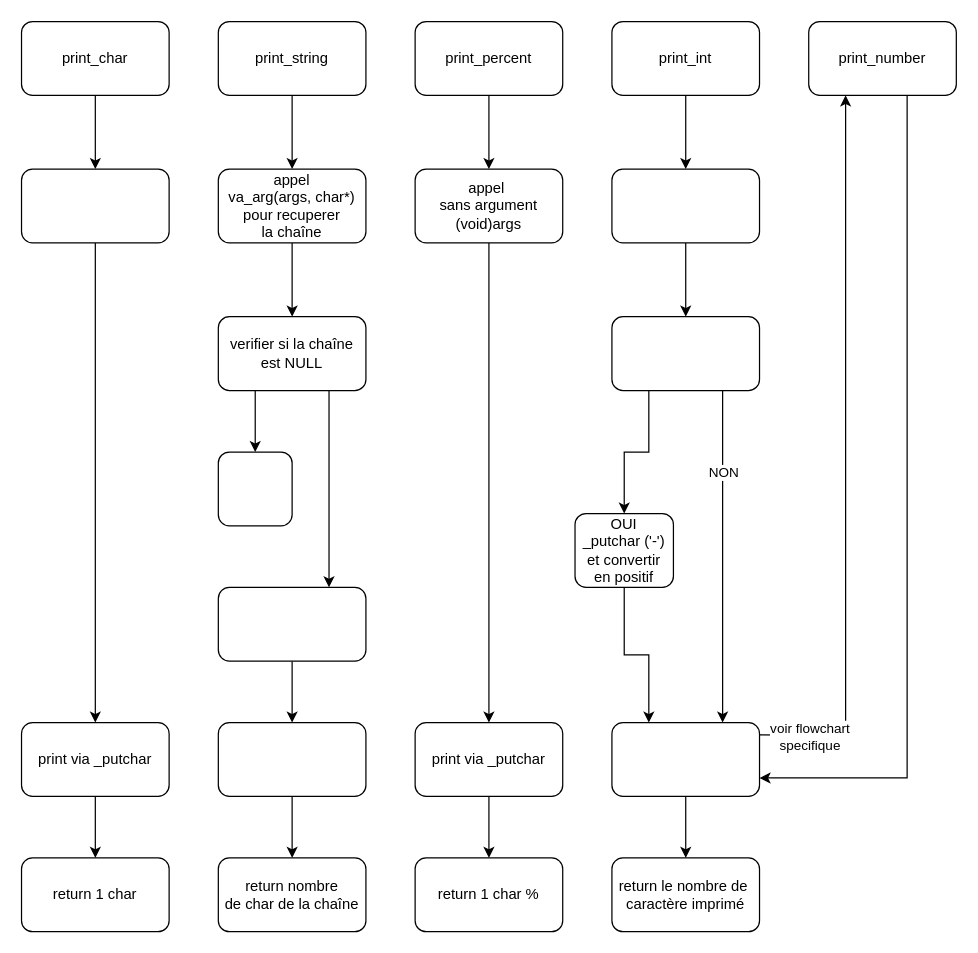
Image size: 978x953. Some labels were removed from this diagram. Each missing label, with the box of its shape:
appel va_arg(args, int) pour recuperer l'entier: (611, 168, 760, 243)
appel va_arg(args, int) pour recuperer le caractère: (20, 168, 169, 243)
OUI print "(nil)": (217, 451, 292, 526)
parcourir la chaîne: (217, 586, 366, 661)
print chaque char via _putchar: (217, 721, 366, 796)
print chaque chiffre de façon recursive avec _putchar en utilisant print_number: (611, 721, 760, 796)
verifier si negatif: (611, 315, 760, 391)
